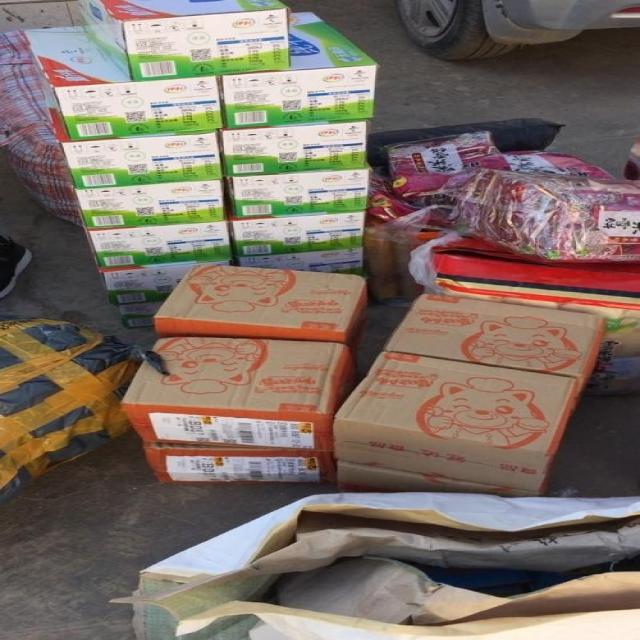box: (334, 351, 583, 490), (124, 337, 365, 453), (19, 26, 225, 142), (380, 296, 605, 390), (156, 264, 373, 349), (223, 12, 377, 130), (72, 0, 291, 82), (64, 133, 225, 191), (334, 457, 532, 498), (225, 123, 365, 179), (75, 181, 229, 230), (227, 169, 367, 220), (147, 445, 331, 483), (90, 224, 235, 269), (233, 212, 365, 258), (103, 261, 237, 306), (240, 246, 367, 275), (119, 296, 169, 344)
